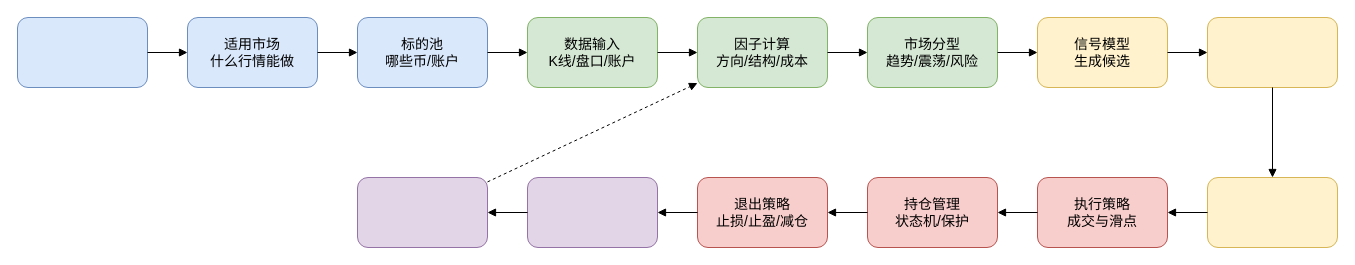
This 1355x265 diagram has some shape labels left out. The centre of each missing label's shape, as x and y in pixels:
"仓位 Sizing 按风险定金额" belongs at (1272,212).
"回测与实盘反馈 修正因子/gate" belongs at (422,212).
"开仓 Gate 过滤不可交易" belongs at (1272,52).
"策略目标 赚什么钱" belongs at (82,52).
"账本归因 费用/净收益/原因" belongs at (592,212).
